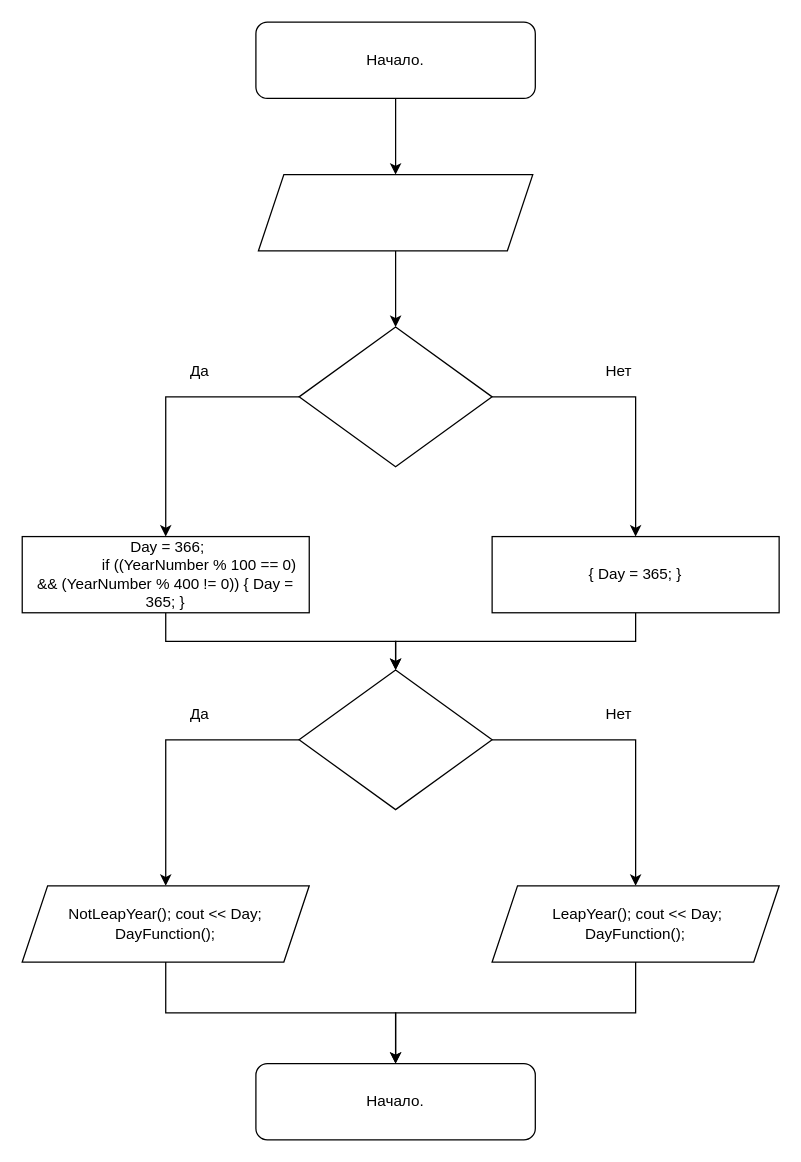
The diagram is 801 pixels wide and 1162 high, and some of its shapes have lost their labels. Each missing label, with the centre of its shape:
"Day == 365" belongs at point (395, 739).
"if (YearNumber % 4 == 0)" belongs at point (395, 396).
"Введите год." belongs at point (395, 212).
